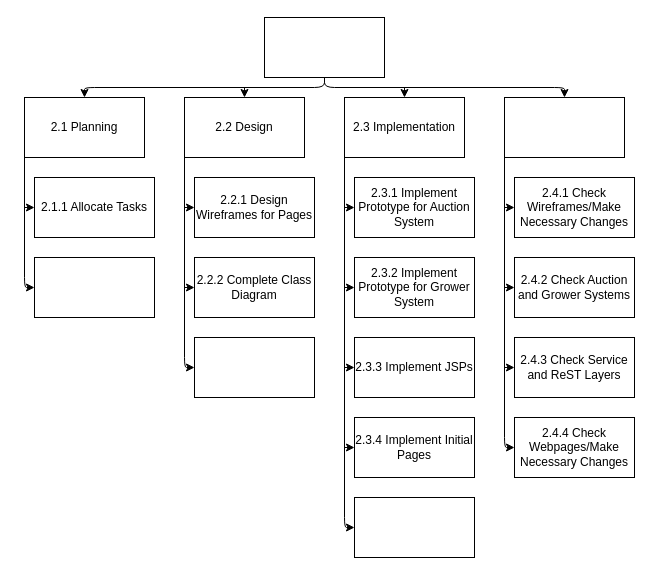
Some shapes in this 652 by 575 pixel diagram are drawn without their labels. Each missing label, with the box of its shape:
2 Second Sprint: (264, 16, 384, 78)
2.1.2 Work Breakdown Structure Chart: (34, 256, 154, 318)
2.2.3 Design Principle Interfaces: (194, 336, 314, 398)
2.3.5 Implement ReST Interfaces: (354, 496, 474, 558)
2.4 Testing: (504, 96, 624, 158)
